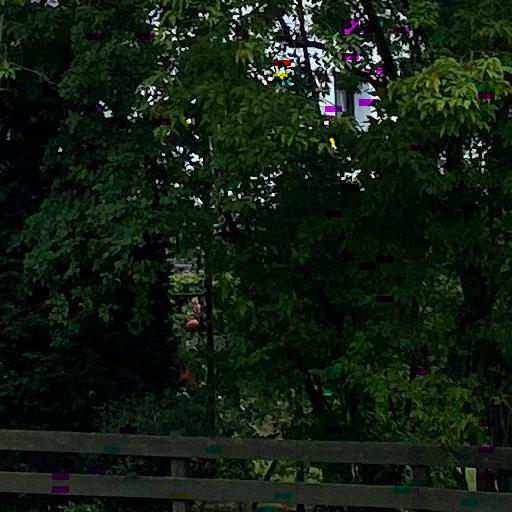tree: (1, 1, 512, 446)
